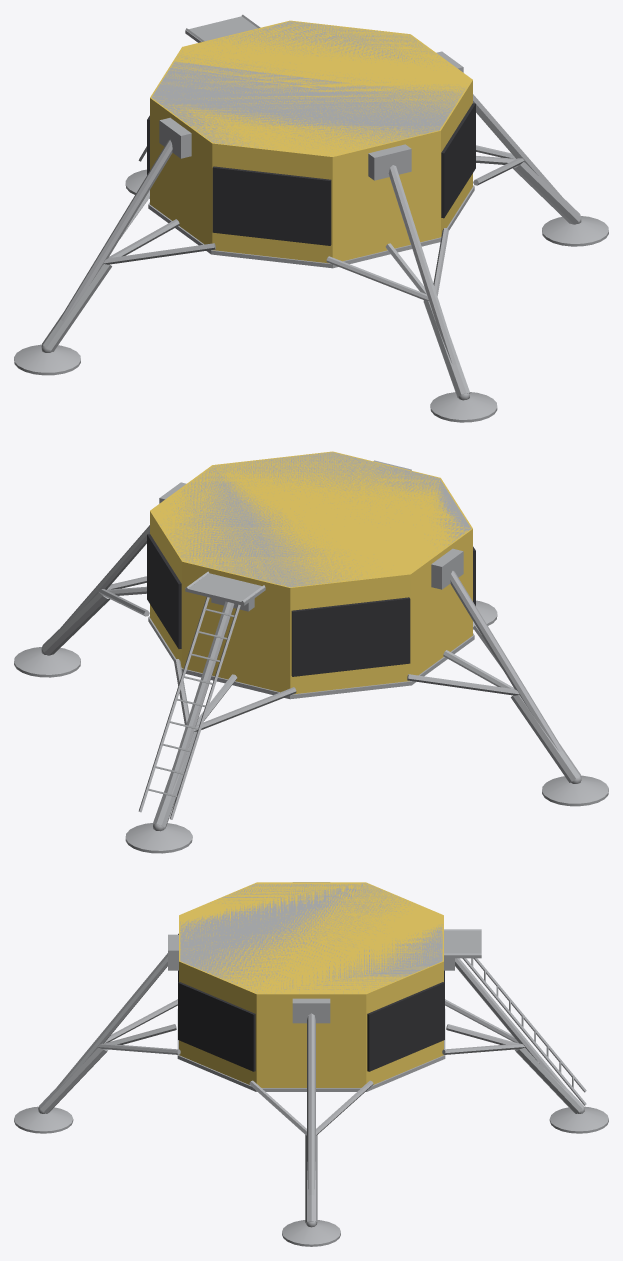
Rendered from LM_Descent.fbx.
3 renders of one model, top to bottom at view 1: azimuth 30°, elevation 25°; view 2: azimuth 150°, elevation 25°; view 3: azimuth 270°, elevation 25°, orthographic. The views are drawn at different scales.
Visible parts, largest first — view 1: LM_Descent; view 2: LM_Descent; view 3: LM_Descent.
Boxes of the visible parts, <box> form: LM_Descent: <box>14,14,608,422</box>; LM_Descent: <box>14,451,608,853</box>; LM_Descent: <box>14,882,608,1246</box>.
Bounding box in the file's own units: 9.44 × 3.2 × 9.44.
